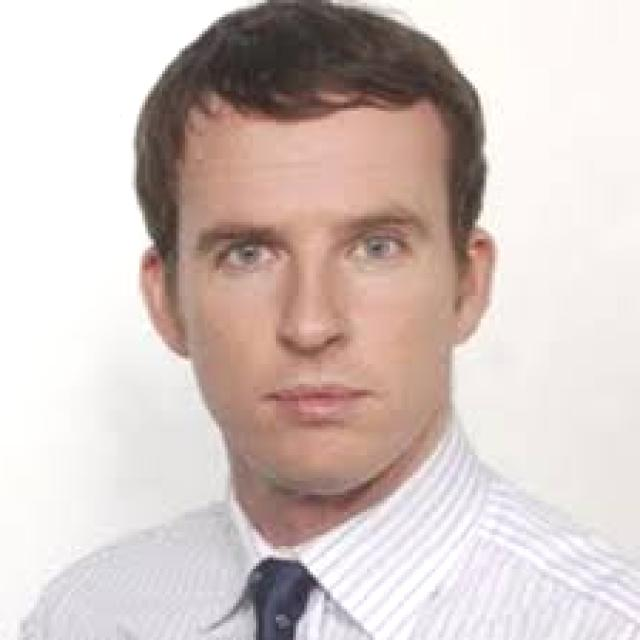normal_face: (87, 34, 495, 573)
